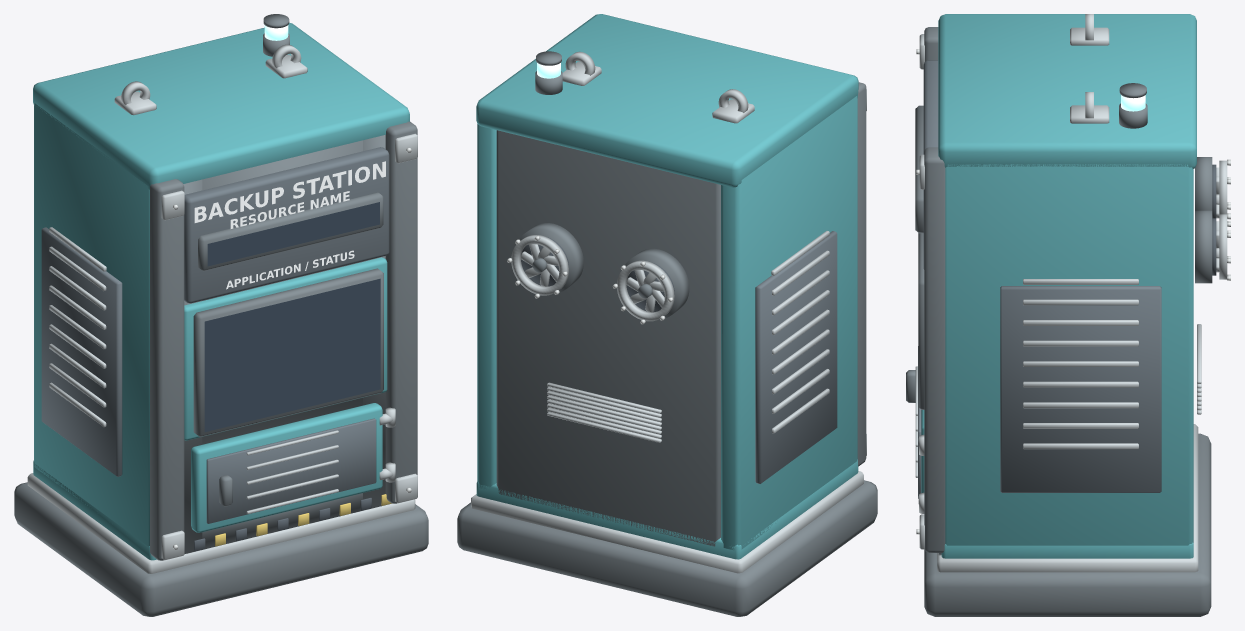
File: backup_station_ultra.glb
3 renders of one model, left to right at view 1: azimuth 30°, elevation 25°; view 2: azimuth 150°, elevation 25°; view 3: azimuth 270°, elevation 25°, orthographic. The views are drawn at different scales.
Visible parts, largest first — view 1: Roof_teal, SideWall_teal, CornerPost_frame, LiveViewSurface_glass, Skid_frame, FrontHeader_graphite, SideServicePanel_graphite, DoorMoving_Inset_graphite, DoorMoving_Panel_teal, SkidDeck_steel, LiveViewSurfaceFrame_frame, ScreenSupport_teal (+16 smaller); view 2: BackWall_frame, SideWall_teal, Roof_teal, Skid_frame, SideServicePanel_graphite, SkidDeck_steel, KickPlate_teal, RearFan_steel, RearVent_steel, CornerPost_frame, SideLouver_steel, RearFan_frame (+3 smaller); view 3: SideWall_teal, Roof_teal, SideServicePanel_graphite, Skid_frame, CornerPost_frame, SideLouver_steel, SkidDeck_steel, KickPlate_teal, RearFan_frame, FrontHeader_graphite, RearFan_steel, LiftMount_steel (+7 smaller).
Boxes of the visible parts, x1,y1,x2,y2 form: Roof_teal: (33, 23, 409, 189); SideWall_teal: (34, 103, 149, 546); CornerPost_frame: (150, 121, 417, 560); LiveViewSurface_glass: (204, 278, 380, 432); Skid_frame: (14, 482, 428, 616); FrontHeader_graphite: (184, 147, 389, 303); SideServicePanel_graphite: (41, 227, 122, 476); DoorMoving_Inset_graphite: (206, 418, 376, 523); DoorMoving_Panel_teal: (191, 403, 382, 532); SkidDeck_steel: (27, 473, 415, 573); LiveViewSurfaceFrame_frame: (193, 268, 383, 436); ScreenSupport_teal: (184, 257, 387, 440); BackWall_frame: (496, 130, 720, 546); SideWall_teal: (477, 96, 857, 550); Roof_teal: (476, 14, 858, 187); Skid_frame: (457, 480, 877, 616); SideServicePanel_graphite: (755, 231, 837, 483); SkidDeck_steel: (471, 471, 863, 573); KickPlate_teal: (476, 459, 858, 559); RearFan_steel: (511, 235, 674, 321); RearVent_steel: (547, 382, 661, 442); CornerPost_frame: (857, 82, 866, 466); SideLouver_steel: (771, 231, 829, 433); RearFan_frame: (519, 223, 689, 319); SideWall_teal: (945, 164, 1193, 545); Roof_teal: (938, 14, 1196, 168); SideServicePanel_graphite: (1000, 286, 1161, 492); Skid_frame: (924, 433, 1211, 616); CornerPost_frame: (924, 27, 945, 552); SideLouver_steel: (1023, 279, 1138, 449); SkidDeck_steel: (937, 424, 1198, 572); KickPlate_teal: (941, 542, 1193, 558); RearFan_frame: (1195, 157, 1212, 283); FrontHeader_graphite: (923, 60, 938, 269); RearFan_steel: (1216, 160, 1227, 279); LiftMount_steel: (1070, 27, 1109, 123).
Size of the model in its own units: 1.6 by 2.53 by 1.48.
